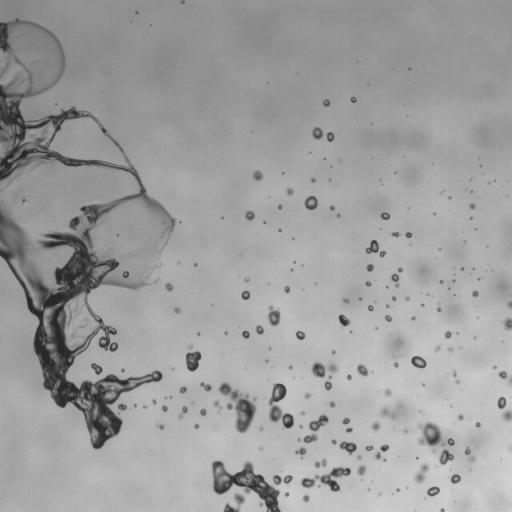droplet: (218, 382, 257, 433), (415, 421, 442, 452), (310, 361, 338, 390), (184, 343, 201, 372), (434, 448, 454, 468), (365, 240, 386, 257), (267, 305, 280, 326), (339, 441, 357, 456), (379, 406, 397, 419), (411, 355, 426, 369), (304, 195, 317, 210), (338, 314, 350, 328), (356, 362, 368, 376), (294, 446, 306, 459), (312, 126, 323, 139), (426, 486, 439, 497), (501, 317, 511, 331), (447, 474, 461, 484), (91, 363, 102, 375), (314, 458, 327, 468), (252, 170, 263, 181), (8, 63, 19, 74), (17, 102, 28, 113), (0, 190, 11, 201), (277, 192, 288, 203), (93, 194, 104, 205), (8, 210, 19, 221), (384, 219, 395, 230), (59, 223, 70, 234), (159, 251, 170, 262), (368, 252, 379, 263), (374, 305, 385, 316), (29, 353, 40, 364), (72, 354, 83, 365), (32, 364, 43, 375), (64, 370, 75, 381), (87, 372, 98, 383), (188, 382, 199, 393), (236, 384, 247, 395), (209, 387, 220, 398), (118, 391, 129, 402), (178, 393, 189, 404), (219, 393, 230, 404), (384, 397, 395, 408), (277, 399, 288, 410), (168, 403, 179, 414), (259, 403, 270, 414), (187, 406, 198, 417), (227, 408, 238, 419), (156, 411, 167, 422), (251, 412, 262, 423), (299, 414, 310, 425), (394, 416, 405, 427), (462, 418, 473, 429), (80, 430, 91, 441), (434, 440, 445, 451), (304, 451, 315, 462), (227, 463, 238, 474), (422, 476, 433, 487), (439, 478, 450, 489), (222, 490, 233, 501), (247, 490, 258, 501), (244, 210, 255, 220), (295, 330, 306, 340), (200, 381, 211, 391), (357, 464, 366, 476), (370, 421, 380, 431), (325, 131, 334, 142), (255, 324, 264, 335), (241, 290, 250, 300), (383, 387, 392, 397), (164, 282, 173, 291), (15, 218, 24, 227), (365, 271, 374, 280), (388, 286, 397, 295), (410, 296, 419, 305), (29, 315, 38, 324), (261, 320, 270, 329), (440, 337, 449, 346), (330, 355, 339, 364), (351, 370, 360, 379), (211, 380, 220, 389), (108, 402, 117, 411), (205, 404, 214, 413), (194, 414, 203, 423), (377, 415, 386, 424), (414, 429, 423, 438), (344, 433, 353, 442), (422, 443, 431, 452), (355, 444, 364, 453), (411, 464, 420, 473), (321, 465, 330, 474), (264, 475, 273, 484), (334, 475, 343, 484), (291, 476, 300, 485), (407, 477, 416, 486), (276, 482, 285, 491), (229, 483, 238, 492), (380, 212, 390, 220), (444, 330, 452, 339), (155, 422, 164, 430), (0, 77, 8, 86), (505, 399, 511, 410), (238, 505, 249, 511), (257, 505, 268, 511), (304, 391, 312, 399), (342, 417, 350, 425), (325, 401, 335, 407), (286, 187, 293, 195), (366, 264, 373, 272), (173, 306, 181, 313), (242, 330, 249, 338), (199, 408, 206, 416), (302, 494, 309, 502), (0, 146, 5, 157), (323, 99, 330, 106), (384, 315, 391, 322), (396, 338, 403, 345), (434, 345, 441, 352), (179, 386, 186, 393), (161, 405, 168, 412), (345, 426, 352, 433), (447, 438, 454, 445), (62, 68, 69, 75), (51, 84, 58, 91), (63, 103, 70, 110), (53, 108, 60, 115), (55, 160, 62, 167), (80, 163, 87, 170), (89, 164, 96, 171), (101, 166, 108, 173), (260, 168, 267, 175), (248, 176, 255, 183), (1, 177, 8, 184), (132, 186, 139, 193), (145, 189, 152, 196), (158, 198, 165, 205), (83, 199, 90, 206), (467, 208, 474, 215), (75, 209, 82, 216), (398, 228, 405, 235), (398, 233, 405, 240), (149, 273, 156, 280), (443, 278, 450, 285), (158, 282, 165, 289), (97, 283, 104, 290), (109, 284, 116, 291), (139, 285, 146, 292), (120, 286, 127, 293), (349, 295, 356, 302), (262, 308, 269, 315), (385, 308, 392, 315), (344, 312, 351, 319), (102, 318, 109, 325), (497, 322, 504, 329), (29, 327, 36, 334), (248, 328, 255, 335), (97, 329, 104, 336), (28, 331, 35, 338), (92, 334, 99, 341), (108, 334, 115, 341), (439, 346, 446, 353), (264, 351, 271, 358), (320, 359, 327, 366), (180, 361, 187, 368), (306, 361, 313, 368), (364, 363, 371, 370), (99, 371, 106, 378), (118, 373, 125, 380), (320, 375, 327, 382), (74, 380, 81, 387), (229, 383, 236, 390), (48, 398, 55, 405), (164, 399, 171, 406), (276, 399, 283, 406), (125, 400, 132, 407), (65, 401, 72, 408), (155, 401, 162, 408), (387, 404, 394, 411), (395, 408, 402, 415), (420, 417, 427, 424), (430, 417, 437, 424), (276, 418, 283, 425), (292, 418, 299, 425), (119, 423, 126, 430), (305, 428, 312, 435), (104, 438, 111, 445), (298, 440, 305, 447), (302, 441, 309, 448), (373, 444, 380, 451), (447, 446, 454, 453), (470, 461, 477, 468), (236, 464, 243, 471), (252, 467, 259, 474), (350, 467, 357, 474), (228, 468, 235, 475), (423, 470, 430, 477), (306, 472, 313, 479), (206, 480, 213, 487), (323, 483, 330, 490), (301, 486, 308, 493), (276, 494, 283, 501), (229, 500, 236, 507), (284, 285, 290, 293), (457, 413, 463, 421), (365, 445, 373, 451), (506, 309, 511, 318), (506, 367, 511, 376), (469, 203, 476, 209), (405, 232, 412, 238), (472, 290, 478, 297), (346, 373, 351, 381), (350, 96, 356, 102), (397, 267, 403, 273), (365, 280, 371, 286), (393, 361, 399, 367), (475, 421, 481, 427), (356, 454, 362, 460), (342, 298, 349, 303), (258, 424, 263, 431), (277, 204, 283, 209), (329, 205, 335, 210), (244, 277, 250, 282), (368, 305, 373, 311), (196, 331, 201, 337), (397, 402, 403, 407), (194, 423, 199, 429), (331, 438, 336, 444), (283, 492, 289, 497), (507, 328, 511, 335), (507, 418, 511, 425), (310, 177, 315, 182), (405, 296, 410, 301), (288, 365, 293, 370), (258, 446, 263, 451), (26, 16, 31, 21), (30, 17, 35, 22), (33, 18, 38, 23), (41, 22, 46, 27), (45, 24, 50, 29), (51, 29, 56, 34), (56, 35, 61, 40), (62, 47, 67, 52), (9, 56, 14, 61), (64, 59, 69, 64), (58, 77, 63, 82), (55, 81, 60, 86), (45, 89, 50, 94), (328, 97, 333, 102), (329, 100, 334, 105), (332, 130, 337, 135), (308, 133, 313, 138), (321, 133, 326, 138), (311, 137, 316, 142), (116, 138, 121, 143), (119, 142, 124, 147), (74, 165, 79, 170), (119, 169, 124, 174), (137, 171, 142, 176), (129, 174, 134, 179), (261, 175, 266, 180), (314, 175, 319, 180), (140, 178, 145, 183), (257, 179, 262, 184), (288, 183, 293, 188), (291, 186, 296, 191), (281, 189, 286, 194), (122, 191, 127, 196), (311, 191, 316, 196), (443, 191, 448, 196), (304, 192, 309, 197), (287, 194, 292, 199), (316, 199, 321, 204), (472, 199, 477, 204), (300, 203, 305, 208), (464, 204, 469, 209), (249, 206, 254, 211), (307, 208, 312, 213), (331, 209, 336, 214), (253, 210, 258, 215), (170, 212, 175, 217), (70, 213, 75, 218), (240, 214, 245, 219), (251, 217, 256, 222), (174, 221, 179, 226), (365, 242, 370, 247), (377, 246, 382, 251), (161, 249, 166, 254), (291, 263, 296, 268), (362, 263, 367, 268), (372, 265, 377, 270), (5, 266, 10, 271), (153, 267, 158, 272), (7, 269, 12, 274), (368, 270, 373, 275), (9, 272, 14, 277), (397, 278, 402, 283), (390, 280, 395, 285), (170, 281, 175, 286), (448, 281, 453, 286), (16, 283, 21, 288), (471, 285, 476, 290), (279, 287, 284, 292), (19, 288, 24, 293), (89, 288, 94, 293), (449, 288, 454, 293), (166, 290, 171, 295), (236, 293, 241, 298), (345, 294, 350, 299), (248, 295, 253, 300), (21, 296, 26, 301), (505, 297, 510, 302), (240, 298, 245, 303), (244, 298, 249, 303), (388, 299, 393, 304), (87, 300, 92, 305), (404, 300, 409, 305), (439, 303, 444, 308), (178, 304, 183, 309), (432, 304, 437, 309), (440, 306, 445, 311), (169, 308, 174, 313), (93, 309, 98, 314), (178, 311, 183, 316), (173, 312, 178, 317), (278, 314, 283, 319), (335, 319, 340, 324), (382, 319, 387, 324), (272, 324, 277, 329), (344, 324, 349, 329), (440, 329, 445, 334), (450, 332, 455, 337), (440, 334, 445, 339), (303, 335, 308, 340), (430, 345, 435, 350), (98, 346, 103, 351), (190, 347, 195, 352), (105, 348, 110, 353), (411, 351, 416, 356), (418, 352, 423, 357), (394, 357, 399, 362), (406, 358, 411, 363), (197, 359, 202, 364), (95, 360, 100, 365), (407, 361, 412, 366), (411, 365, 416, 370), (195, 366, 200, 371), (414, 366, 419, 371), (158, 367, 163, 372), (496, 367, 501, 372), (89, 368, 94, 373), (147, 368, 152, 373), (186, 369, 191, 374), (324, 370, 329, 375), (131, 372, 136, 377), (161, 373, 166, 378), (455, 374, 460, 379), (450, 376, 455, 381), (497, 376, 502, 381), (39, 377, 44, 382), (158, 378, 163, 383), (203, 379, 208, 384), (150, 380, 155, 385), (281, 380, 286, 385), (179, 381, 184, 386), (141, 382, 146, 387), (456, 383, 461, 388), (268, 384, 273, 389), (284, 384, 289, 389), (387, 384, 392, 389), (320, 385, 325, 390), (330, 385, 335, 390), (199, 386, 204, 391), (285, 387, 290, 392), (379, 387, 384, 392), (302, 388, 307, 393), (45, 389, 50, 394), (128, 389, 133, 394), (284, 392, 289, 397), (299, 392, 304, 397), (266, 393, 271, 398), (326, 397, 331, 402), (114, 399, 119, 404), (162, 400, 167, 405), (492, 400, 497, 405), (334, 401, 339, 406), (136, 403, 141, 408), (186, 405, 191, 410), (213, 406, 218, 411), (166, 407, 171, 412), (177, 407, 182, 412), (195, 407, 200, 412), (77, 409, 82, 414), (281, 409, 286, 414), (289, 410, 294, 415), (454, 410, 459, 415), (195, 411, 200, 416), (324, 411, 329, 416), (182, 412, 187, 417), (462, 413, 467, 418), (313, 415, 318, 420), (453, 416, 458, 421), (369, 419, 374, 424), (456, 419, 461, 424), (344, 423, 349, 428), (400, 423, 405, 428), (318, 425, 323, 430), (154, 426, 159, 431), (377, 426, 382, 431), (284, 427, 289, 432), (193, 428, 198, 433), (369, 428, 374, 433), (398, 431, 403, 436), (405, 432, 410, 437), (299, 433, 304, 438), (309, 440, 314, 445), (335, 440, 340, 445), (365, 440, 370, 445), (380, 440, 385, 445), (354, 441, 359, 446), (87, 442, 92, 447), (460, 446, 465, 451), (341, 448, 346, 453), (351, 450, 356, 455), (379, 450, 384, 455), (469, 450, 474, 455), (295, 453, 300, 458), (302, 453, 307, 458), (463, 454, 468, 459), (216, 456, 221, 461), (317, 457, 322, 462), (377, 458, 382, 463), (434, 458, 439, 463), (446, 459, 451, 464), (333, 463, 338, 468), (341, 463, 346, 468), (438, 463, 443, 468), (207, 465, 212, 470), (363, 469, 368, 474), (448, 471, 453, 476), (279, 473, 284, 478), (315, 478, 320, 483), (289, 479, 294, 484), (279, 480, 284, 485), (455, 481, 460, 486), (273, 484, 278, 489), (330, 490, 335, 495), (212, 491, 217, 496), (434, 493, 439, 498), (425, 494, 430, 499), (220, 504, 225, 509), (477, 276, 483, 280), (447, 347, 453, 351), (299, 411, 305, 415), (376, 492, 382, 496), (0, 15, 3, 22), (0, 255, 3, 262), (180, 0, 185, 4), (192, 262, 197, 266), (392, 296, 396, 301), (410, 316, 415, 320), (264, 358, 268, 363), (492, 365, 497, 369), (420, 382, 425, 386), (152, 399, 156, 404), (142, 405, 147, 409), (299, 424, 303, 429), (336, 213, 340, 217), (469, 216, 473, 220), (278, 228, 282, 232), (460, 266, 464, 270), (385, 304, 389, 308), (374, 326, 378, 330), (224, 331, 228, 335), (331, 350, 335, 354), (171, 366, 175, 370), (121, 368, 125, 372), (133, 403, 137, 407), (392, 427, 396, 431), (467, 467, 471, 471), (177, 260, 180, 265), (472, 336, 477, 339), (440, 508, 445, 511), (135, 10, 138, 14), (432, 212, 436, 215), (262, 220, 266, 223), (452, 278, 455, 282), (439, 280, 443, 283), (385, 285, 388, 289), (426, 292, 430, 295), (358, 297, 362, 300), (420, 303, 424, 306), (268, 346, 271, 350), (396, 488, 399, 492), (175, 0, 180, 2), (408, 67, 411, 70), (54, 102, 57, 105), (281, 171, 284, 174), (328, 178, 331, 181), (493, 179, 496, 182), (487, 181, 490, 184), (470, 190, 473, 193), (448, 196, 451, 199), (178, 220, 181, 223), (463, 240, 466, 243), (409, 243, 412, 246), (472, 267, 475, 270), (290, 268, 293, 271), (267, 282, 270, 285), (447, 287, 450, 290), (476, 316, 479, 319), (349, 330, 352, 333), (392, 355, 395, 358), (292, 376, 295, 379), (360, 478, 363, 481), (367, 488, 370, 491), (180, 3, 183, 6), (132, 9, 135, 12), (137, 11, 140, 14), (408, 64, 411, 67), (404, 67, 407, 70), (408, 69, 411, 72), (352, 93, 355, 96), (355, 96, 358, 99), (347, 98, 350, 101), (354, 101, 357, 104), (324, 105, 327, 108), (92, 113, 95, 116), (103, 125, 106, 128), (331, 139, 334, 142), (122, 147, 125, 150), (307, 148, 310, 151), (305, 151, 308, 154), (310, 152, 313, 155), (323, 154, 326, 157), (127, 155, 130, 158), (319, 156, 322, 159), (322, 159, 325, 162), (476, 164, 479, 167), (133, 165, 136, 168), (329, 167, 332, 170), (392, 168, 395, 171), (283, 169, 286, 172), (123, 170, 126, 173), (278, 171, 281, 174), (396, 171, 399, 174), (393, 173, 396, 176), (281, 174, 284, 177), (327, 175, 330, 178), (308, 176, 311, 179), (491, 176, 494, 179), (330, 177, 333, 180), (471, 177, 474, 180), (325, 179, 328, 182), (308, 180, 311, 183), (379, 180, 382, 183), (490, 180, 493, 183), (312, 181, 315, 184), (467, 187, 470, 190), (472, 190, 475, 193), (19, 192, 22, 195), (447, 192, 450, 195), (444, 195, 447, 198), (450, 197, 453, 200), (23, 200, 26, 203), (330, 202, 333, 205), (274, 204, 277, 207), (281, 205, 284, 208), (326, 206, 329, 209), (275, 207, 278, 210), (382, 209, 385, 212), (378, 211, 381, 214), (387, 211, 390, 214), (429, 211, 432, 214), (435, 211, 438, 214), (339, 212, 342, 215), (467, 214, 470, 217), (223, 216, 226, 219), (335, 216, 338, 219), (379, 217, 382, 220), (219, 218, 222, 221), (471, 218, 474, 221), (265, 220, 268, 223), (262, 223, 265, 226), (474, 224, 477, 227), (278, 225, 281, 228), (274, 228, 277, 231), (281, 228, 284, 231), (392, 229, 395, 232), (407, 229, 410, 232), (277, 231, 280, 234), (392, 235, 395, 238), (397, 235, 400, 238), (294, 236, 297, 239), (372, 236, 375, 239), (407, 237, 410, 240), (167, 239, 170, 242), (291, 239, 294, 242), (376, 240, 379, 243), (164, 244, 167, 247), (438, 244, 441, 247), (440, 248, 443, 251), (362, 249, 365, 252), (370, 251, 373, 254), (383, 254, 386, 257), (292, 257, 295, 260), (193, 259, 196, 262), (295, 260, 298, 263), (300, 260, 303, 263), (161, 261, 164, 264), (190, 263, 193, 266), (303, 263, 306, 266), (400, 265, 403, 268), (469, 265, 472, 268), (193, 266, 196, 269), (457, 266, 460, 269), (474, 266, 477, 269), (287, 267, 290, 270), (463, 268, 466, 271), (469, 268, 472, 271), (292, 269, 295, 272), (452, 269, 455, 272), (460, 270, 463, 273), (396, 271, 399, 274), (477, 274, 480, 277), (452, 275, 455, 278), (388, 276, 391, 279), (439, 276, 442, 279), (249, 277, 252, 280), (314, 278, 317, 281), (479, 278, 482, 281), (145, 279, 148, 282), (369, 279, 372, 282), (436, 279, 439, 282), (475, 279, 478, 282), (156, 280, 159, 283), (362, 282, 365, 285), (370, 282, 373, 285), (439, 283, 442, 286), (314, 284, 317, 287), (382, 284, 385, 287), (366, 285, 369, 288), (244, 287, 247, 290), (241, 288, 244, 291), (476, 288, 479, 291), (248, 290, 251, 293), (288, 290, 291, 293), (422, 291, 425, 294), (428, 291, 431, 294), (469, 292, 472, 295), (404, 293, 407, 296), (455, 293, 458, 296), (359, 294, 362, 297), (425, 295, 428, 298), (475, 295, 478, 298), (388, 296, 391, 299), (395, 296, 398, 299), (409, 296, 412, 299), (356, 299, 359, 302), (210, 300, 213, 303), (420, 300, 423, 303), (370, 302, 373, 305), (417, 303, 420, 306), (364, 305, 367, 308), (422, 305, 425, 308), (366, 309, 369, 312), (369, 310, 372, 313), (339, 311, 342, 314), (436, 311, 439, 314), (410, 313, 413, 316), (390, 314, 393, 317), (415, 316, 418, 319), (390, 319, 393, 322), (412, 319, 415, 322), (371, 327, 374, 330), (300, 328, 303, 331), (448, 328, 451, 331), (456, 328, 459, 331), (375, 329, 378, 332), (239, 330, 242, 333), (199, 331, 202, 334), (292, 331, 295, 334), (303, 331, 306, 334), (351, 331, 354, 334), (458, 331, 461, 334), (193, 332, 196, 335), (348, 332, 351, 335), (473, 332, 476, 335), (226, 333, 229, 336), (223, 334, 226, 337), (197, 335, 200, 338), (243, 337, 246, 340), (295, 337, 298, 340), (300, 338, 303, 341), (117, 344, 120, 347), (265, 345, 268, 348), (271, 346, 274, 349), (114, 349, 117, 352), (335, 350, 338, 353), (437, 350, 440, 353), (447, 350, 450, 353), (328, 351, 331, 354), (200, 353, 203, 356), (262, 357, 265, 360), (268, 359, 271, 362), (392, 359, 395, 362), (425, 360, 428, 363), (264, 362, 267, 365), (491, 362, 494, 365), (285, 364, 288, 367), (397, 364, 400, 367), (292, 365, 295, 368), (393, 366, 396, 369), (288, 369, 291, 372), (347, 371, 350, 374), (455, 371, 458, 374), (450, 372, 453, 375), (344, 377, 347, 380), (350, 377, 353, 380), (199, 379, 202, 382), (423, 380, 426, 383), (458, 380, 461, 383), (418, 383, 421, 386), (424, 383, 427, 386), (184, 384, 187, 387), (176, 387, 179, 390), (185, 388, 188, 391), (502, 394, 505, 397), (309, 395, 312, 398), (171, 396, 174, 399), (166, 397, 169, 400), (149, 400, 152, 403), (143, 402, 146, 405), (326, 403, 329, 406), (125, 406, 128, 409), (144, 407, 147, 410), (449, 407, 452, 410), (160, 409, 163, 412), (303, 409, 306, 412), (164, 410, 167, 413), (205, 411, 208, 414), (348, 416, 351, 419), (340, 417, 343, 420), (159, 421, 162, 424), (191, 423, 194, 426), (198, 423, 201, 426), (163, 424, 166, 427), (479, 424, 482, 427), (473, 425, 476, 428), (161, 428, 164, 431), (451, 436, 454, 439), (328, 439, 331, 442), (453, 439, 456, 442), (468, 446, 471, 449), (364, 449, 367, 452), (461, 451, 464, 454), (412, 456, 415, 459), (418, 456, 421, 459), (385, 458, 388, 461), (288, 472, 291, 475), (447, 477, 450, 480), (432, 483, 435, 486), (367, 484, 370, 487), (395, 484, 398, 487), (399, 488, 402, 491), (393, 490, 396, 493), (396, 491, 399, 494), (288, 492, 291, 495), (388, 492, 391, 495), (308, 496, 311, 499), (302, 500, 305, 503), (443, 506, 446, 509), (370, 122, 373, 124), (309, 151, 311, 154), (394, 171, 396, 174), (407, 206, 409, 209), (221, 216, 223, 219), (379, 228, 382, 230), (438, 248, 441, 250), (314, 282, 317, 284), (374, 300, 376, 303), (371, 370, 373, 373), (449, 405, 452, 407), (418, 410, 421, 412), (416, 456, 418, 459), (406, 486, 408, 489), (424, 496, 426, 499), (437, 509, 440, 511), (323, 157, 325, 159), (330, 165, 332, 167), (480, 165, 482, 167), (474, 228, 476, 230), (292, 237, 294, 239), (486, 245, 488, 247), (293, 261, 295, 263), (301, 264, 303, 266), (491, 269, 493, 271), (453, 273, 455, 275), (456, 332, 458, 334), (501, 340, 503, 342), (183, 0, 186, 1), (211, 304, 213, 305), (244, 367, 245, 369), (442, 444, 444, 445), (392, 493, 393, 495), (414, 510, 416, 511), (380, 179, 381, 180), (382, 184, 383, 185)
ligament: (300, 466, 351, 492), (268, 382, 294, 429), (297, 414, 328, 443), (497, 396, 511, 421), (414, 462, 429, 483), (498, 370, 511, 386), (464, 446, 476, 463), (178, 405, 188, 419), (390, 273, 399, 287), (213, 399, 222, 413), (451, 369, 459, 384), (400, 427, 413, 433), (390, 232, 401, 237), (506, 300, 511, 309), (437, 302, 441, 312), (164, 395, 172, 399), (440, 189, 445, 194), (469, 176, 472, 181), (453, 294, 455, 296)
